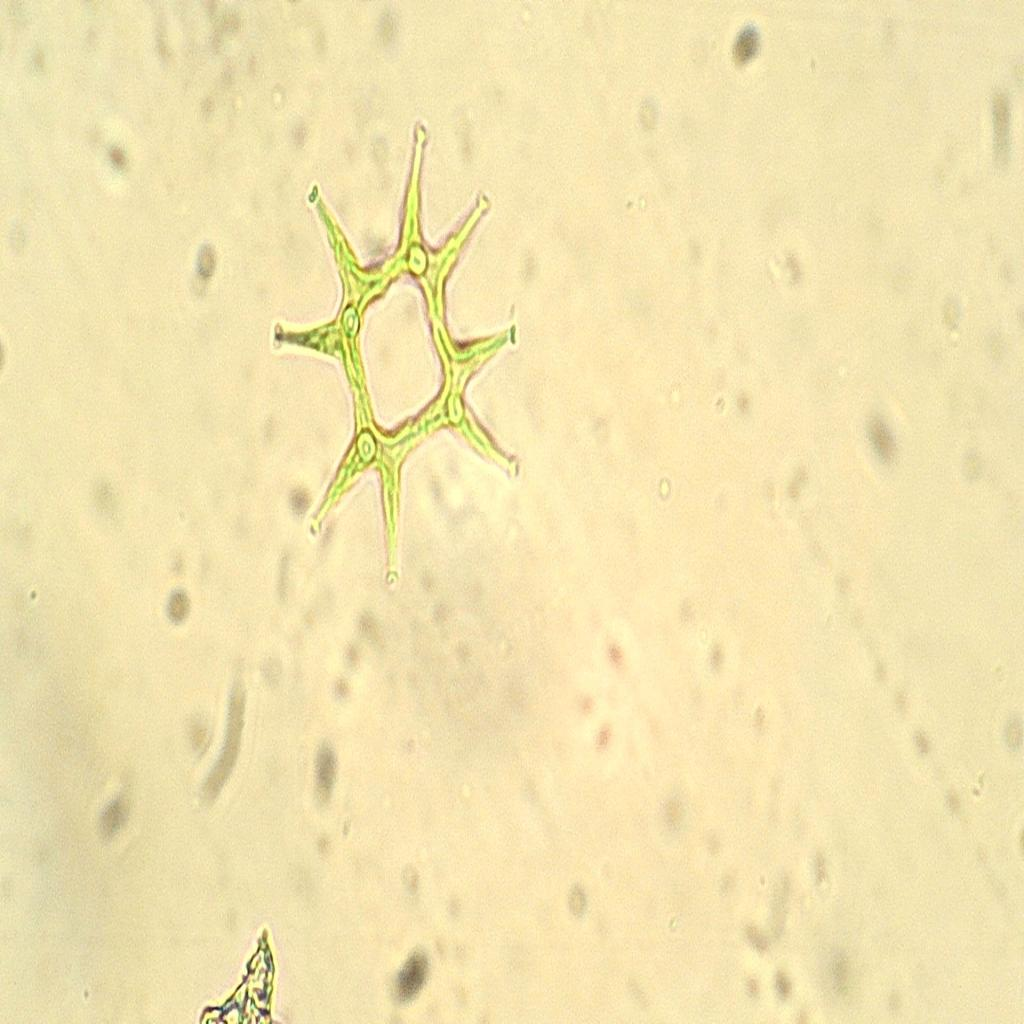Pediastrum_10: (258, 96, 532, 600)
